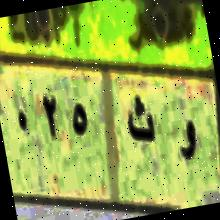0: (10, 98, 36, 143)
2: (38, 90, 64, 142)
5: (66, 94, 92, 145)
thaa: (119, 92, 160, 154)
waw: (172, 112, 202, 171)
